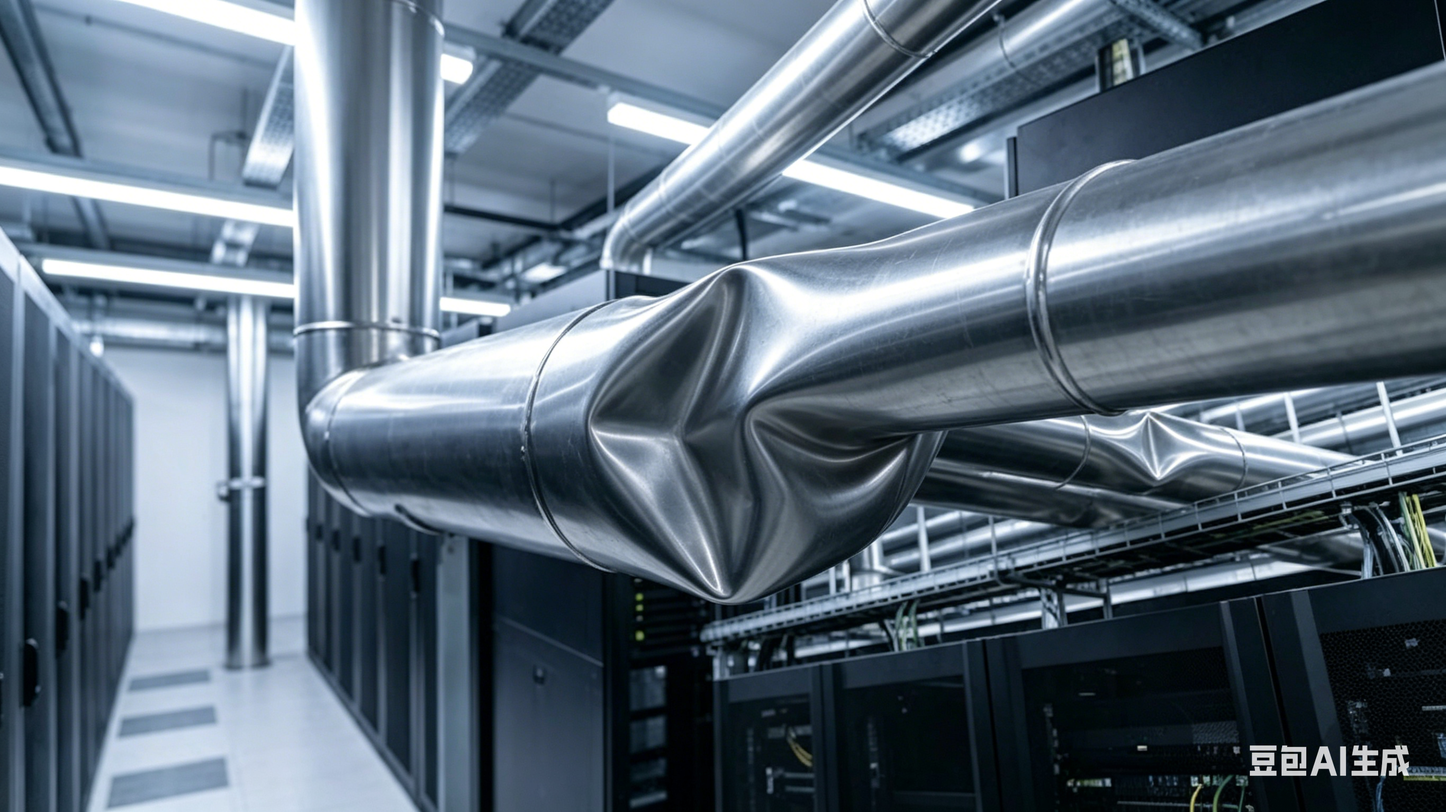Leakage: (597, 273, 834, 603), (1103, 419, 1222, 491)
